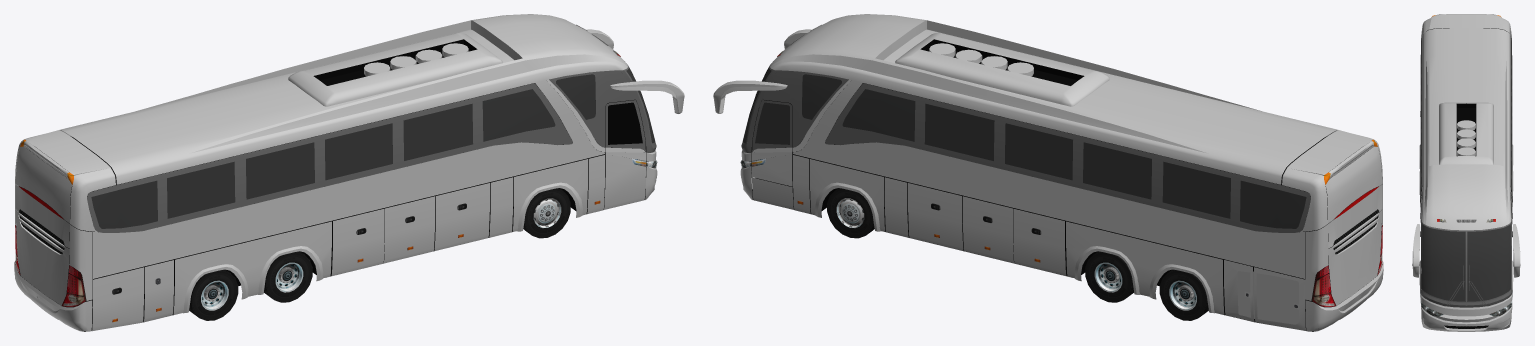
Rendered from Highway Bus.gltf.
The picture shows the model from 3 angles, left to right: view 1: azimuth 30°, elevation 25°; view 2: azimuth 150°, elevation 25°; view 3: azimuth 270°, elevation 25°; orthographic projection. The views are drawn at different scales.
Parts seen in each view (by area): view 1: Material1 (×12); view 2: Material1 (×12); view 3: Material1 (×11).
Boxes of the visible parts, x1,y1,x2,y2 form: Material1 (×12): (14,14,684,331); Material1 (×12): (713,14,1383,331); Material1 (×11): (1412,14,1520,331).
Size of the model in its own units: 324 by 93.59 by 69.82.
